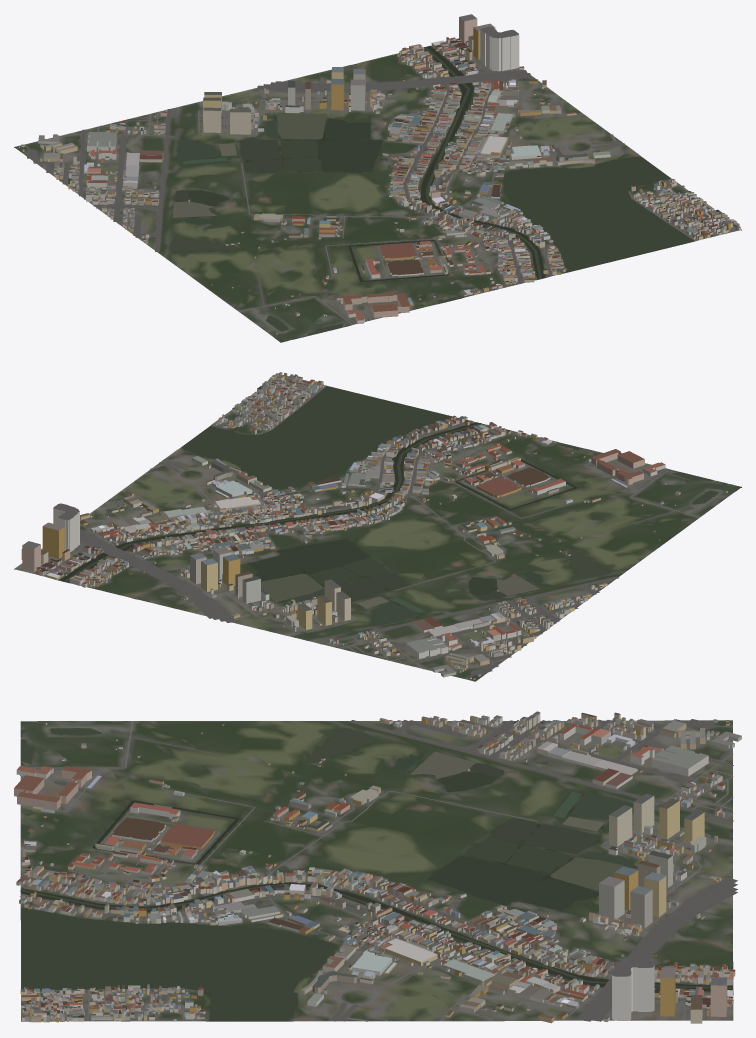
The picture shows the model from 3 angles, top to bottom: view 1: azimuth 30°, elevation 25°; view 2: azimuth 150°, elevation 25°; view 3: azimuth 270°, elevation 25°; orthographic projection. The views are drawn at different scales.
Parts seen in each view (by area): view 1: ground, buildings, water, roads; view 2: ground, buildings, water, roads; view 3: ground, buildings, water, roads.
Part boxes in pixels (x1,y1,x2,y2): ground: (14,38,741,342); buildings: (18,14,740,334); water: (170,45,694,342); roads: (24,41,731,324); ground: (14,375,741,681); buildings: (21,372,727,679); water: (59,386,740,625); roads: (19,380,699,679); ground: (20,720,733,1021); buildings: (14,711,741,1023); water: (20,721,733,1021); roads: (20,719,737,1021).
Bounding box in the file's own units: 1419 × 101 × 1433.
